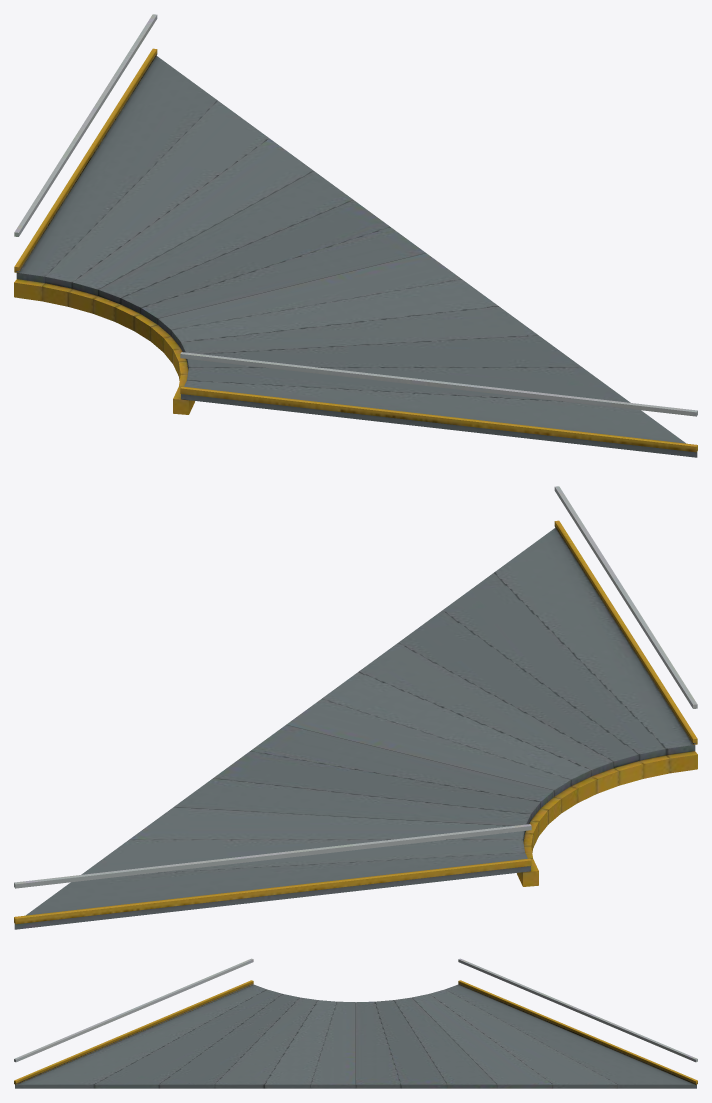
The model's file is wrap_deck_v4_far.glb.
3 views of the same model, one above another, from view 1: azimuth 30°, elevation 25°; view 2: azimuth 150°, elevation 25°; view 3: azimuth 270°, elevation 25° (orthographic). The views are drawn at different scales.
Parts seen in each view (by area): view 1: body; view 2: body; view 3: body, seam_cover_end, seam_cover_start.
Boxes of the visible parts, x1,y1,x2,y2 form: body: (14,14,697,457); body: (14,486,697,929); body: (14,958,697,1088); seam_cover_end: (458,983,697,1084); seam_cover_start: (14,983,253,1084).
Size of the model in its own units: 9.96 by 1.75 by 28.08.
Materials: 3 (3 with a texture image).
